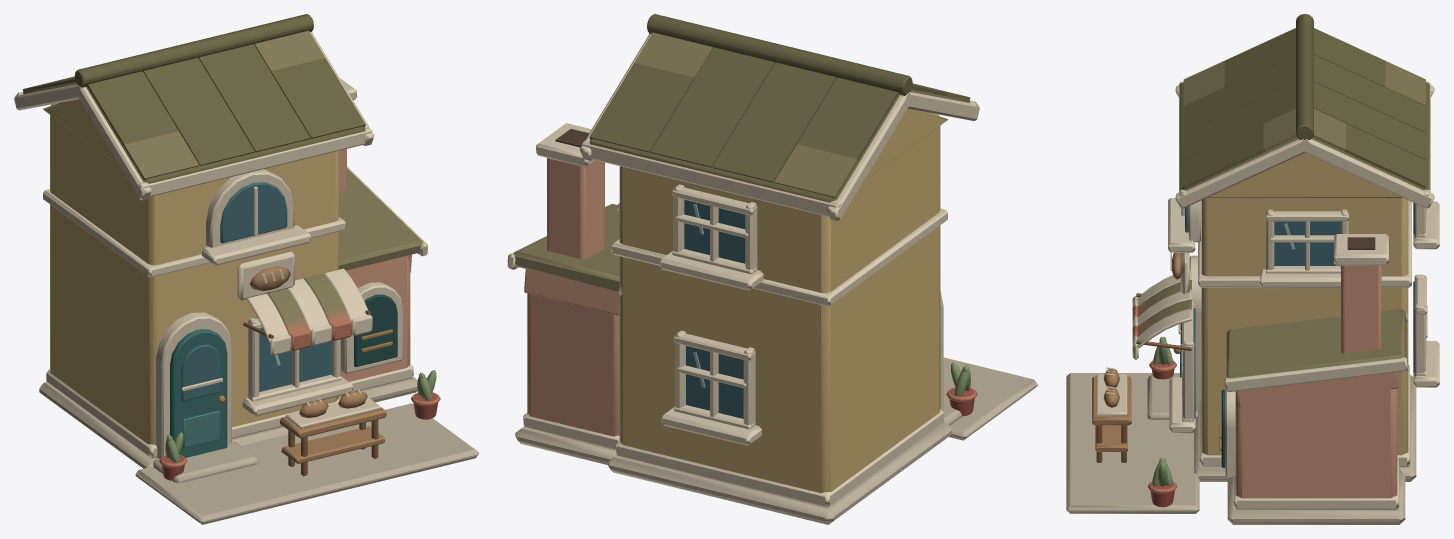
The model's file is bakery_level_3.glb.
3 views of the same model, side by side, from view 1: azimuth 30°, elevation 25°; view 2: azimuth 150°, elevation 25°; view 3: azimuth 270°, elevation 25° (orthographic). The views are drawn at different scales.
Visible parts, largest first — view 1: bakery_level_3_compact_variant; view 2: bakery_level_3_compact_variant; view 3: bakery_level_3_compact_variant.
Boxes of the visible parts, <box> form: bakery_level_3_compact_variant: <box>14,14,478,524</box>; bakery_level_3_compact_variant: <box>507,14,1037,524</box>; bakery_level_3_compact_variant: <box>1066,14,1439,524</box>.
Size of the model in its own units: 4.02 by 4.57 by 4.23.
